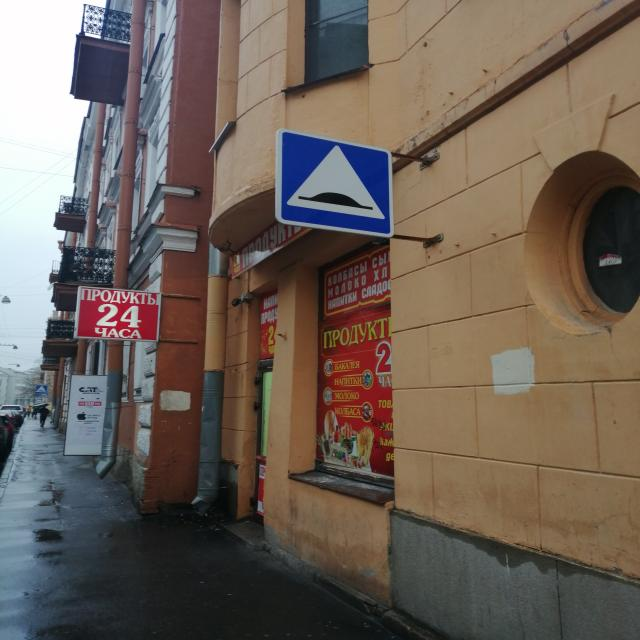road sign: (279, 125, 392, 240)
